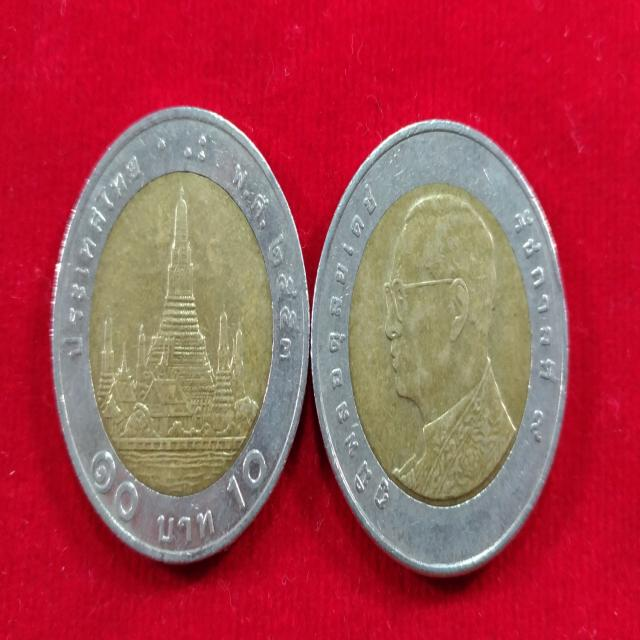10 Bath: (313, 105, 572, 583), (52, 105, 313, 571)
